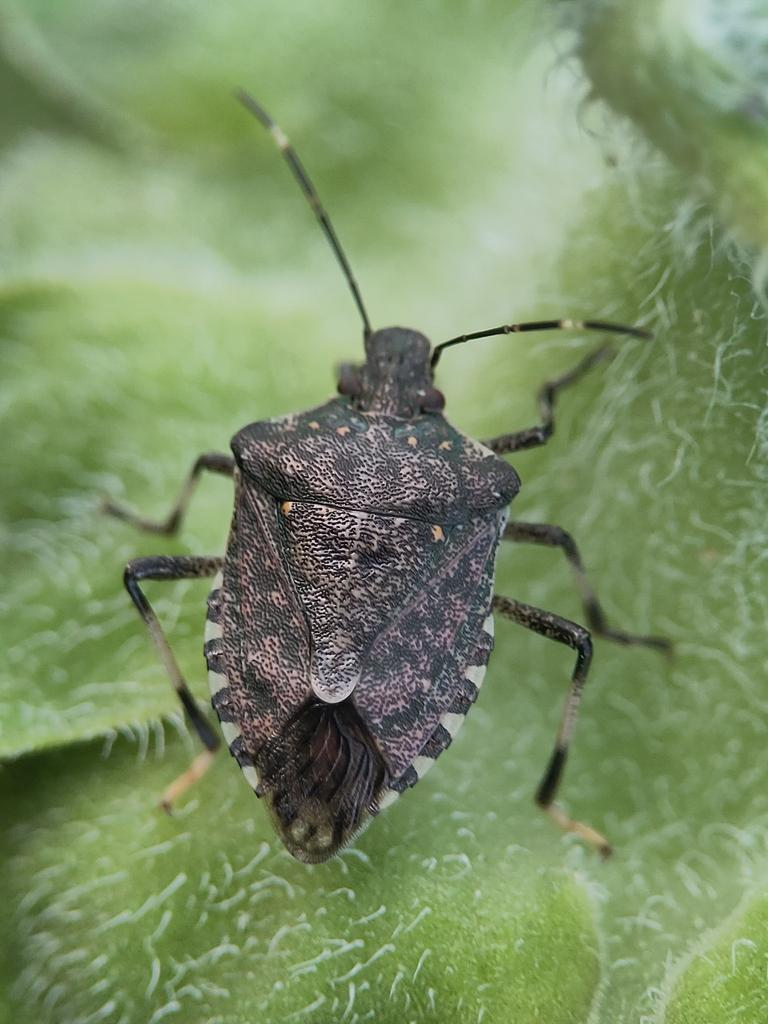stink_bugs: (15, 32, 768, 937)
